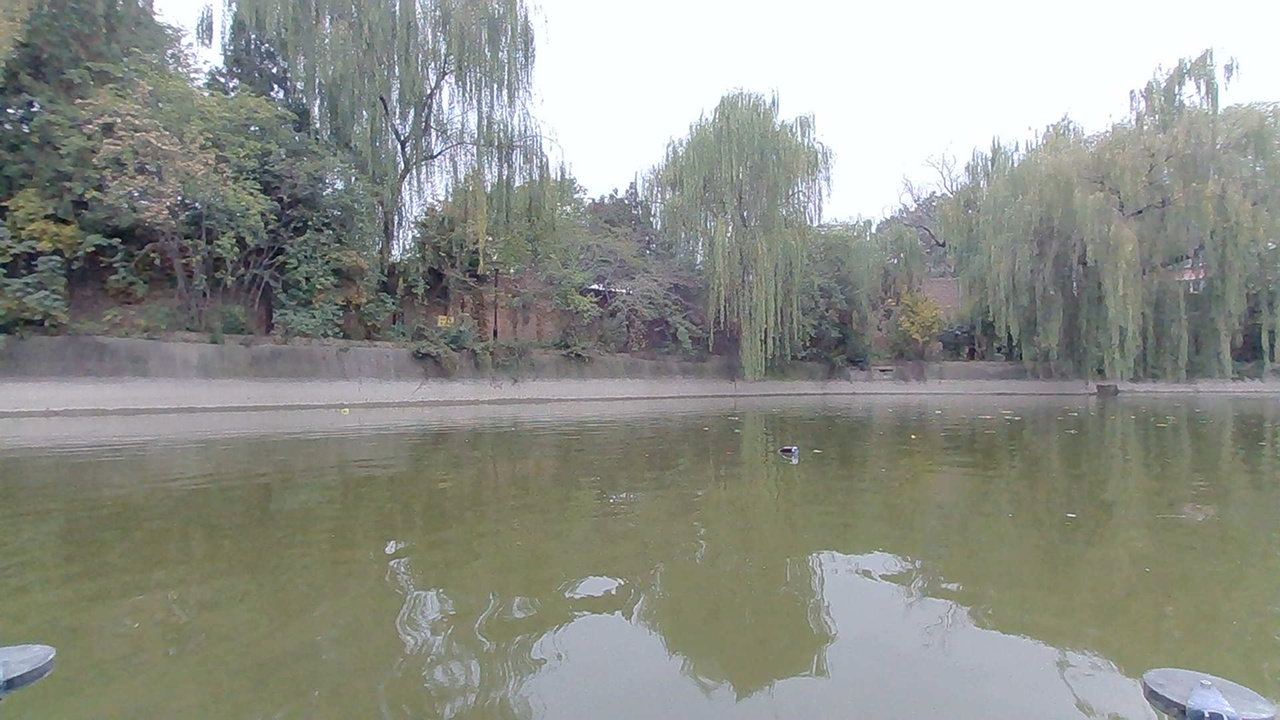bottle: (777, 440, 805, 466)
